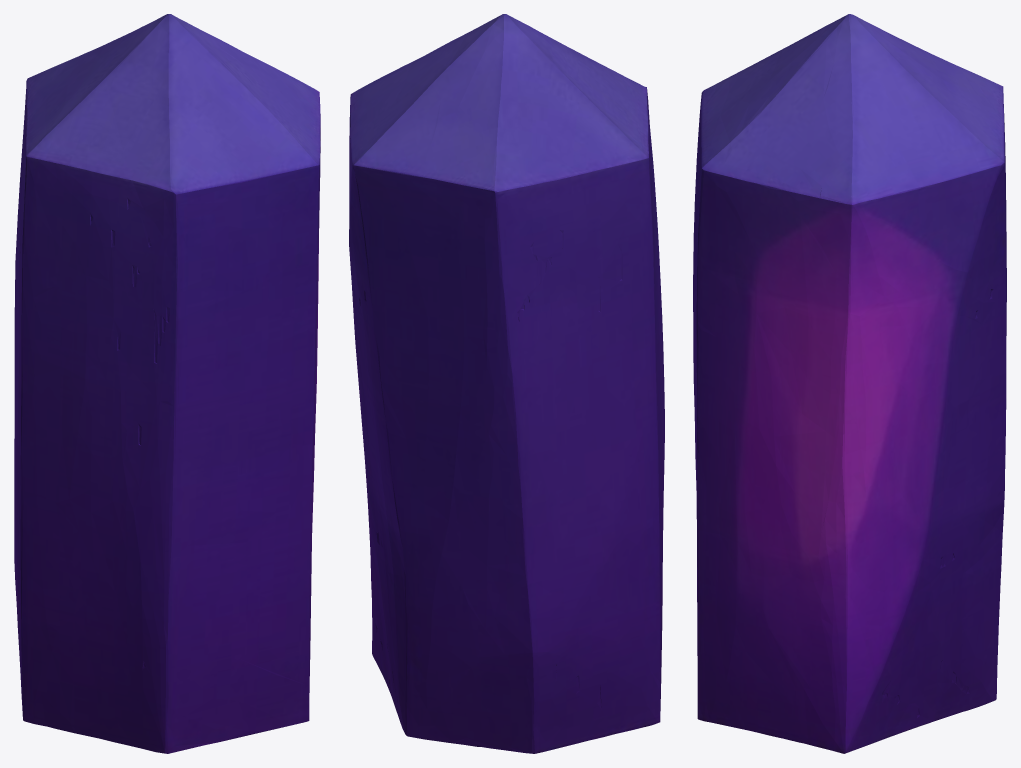
Rendered from abimes_cristal.glb.
The picture shows the model from 3 angles, left to right: view 1: azimuth 30°, elevation 25°; view 2: azimuth 150°, elevation 25°; view 3: azimuth 270°, elevation 25°; orthographic projection.
Visible parts, largest first — view 1: geometry_0; view 2: geometry_0; view 3: geometry_0.
Part boxes in pixels (box(x1,y1,x2,y2)): geometry_0: box(14, 14, 320, 753); geometry_0: box(349, 14, 664, 753); geometry_0: box(693, 14, 1006, 753).
Size of the model in its own units: 0.4733 by 1 by 0.4224.
1 material, 1 textured.
